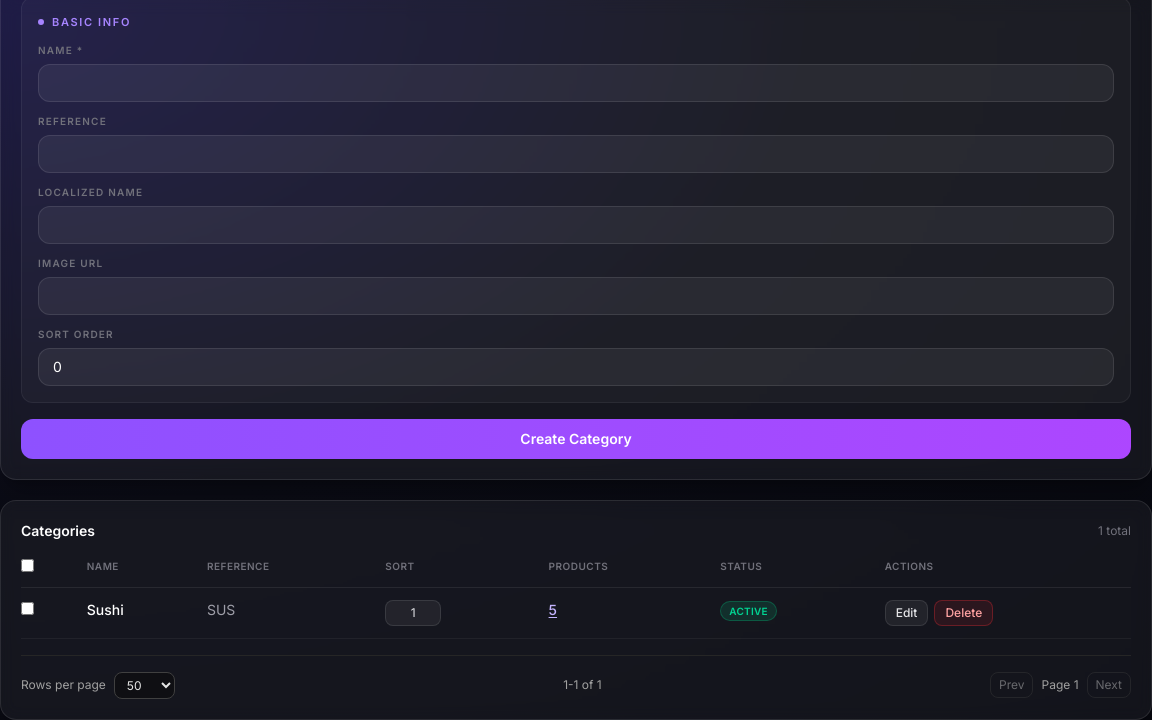
Test: MenuCategoriesPage — edit form › '+ New' button resets form to New Category mode
The image size is (1152, 720).
(page scrolled)
Check: the text "Sushi" is shown, box [87,600,124,618]
What coordinates should you click on to do the following:
click the button "Edit"
I would click on:
 (907, 612)
Its box is [885,600,928,626].
(page scrolled)
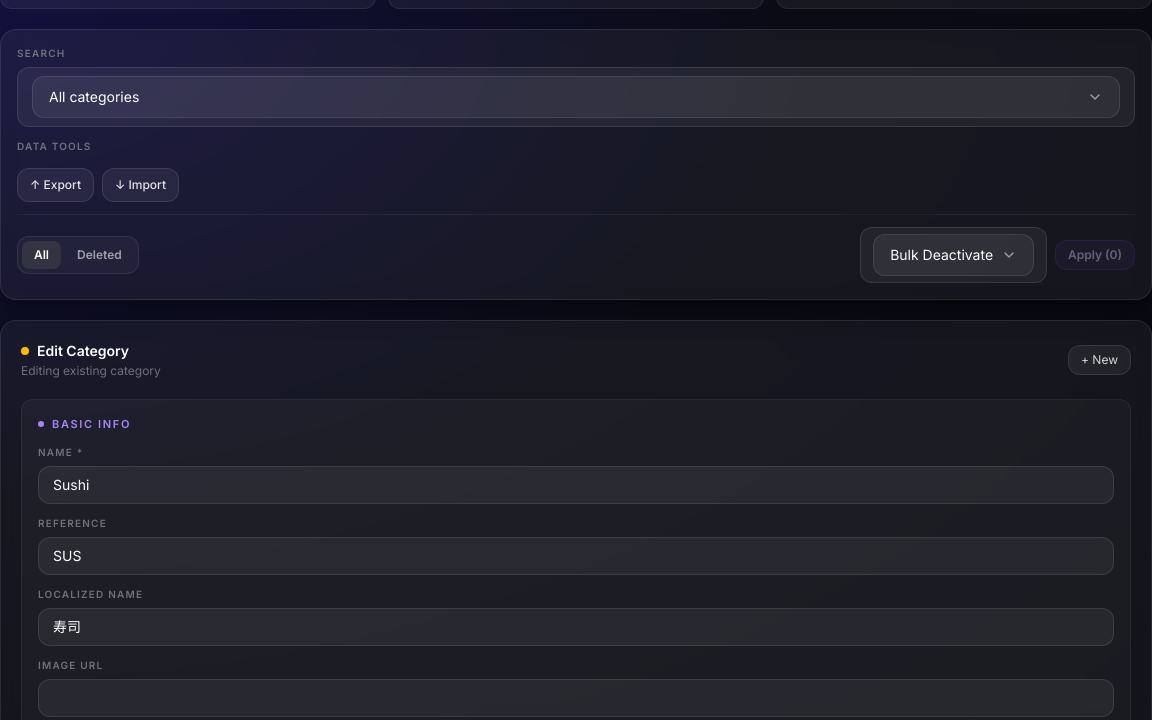
Check: the heading "Edit Category" is shown, box [37,341,129,361]
What coordinates should you click on to do the following:
click the button "+ New"
I would click on:
 (1100, 360)
Its box is [1068,345,1131,375].
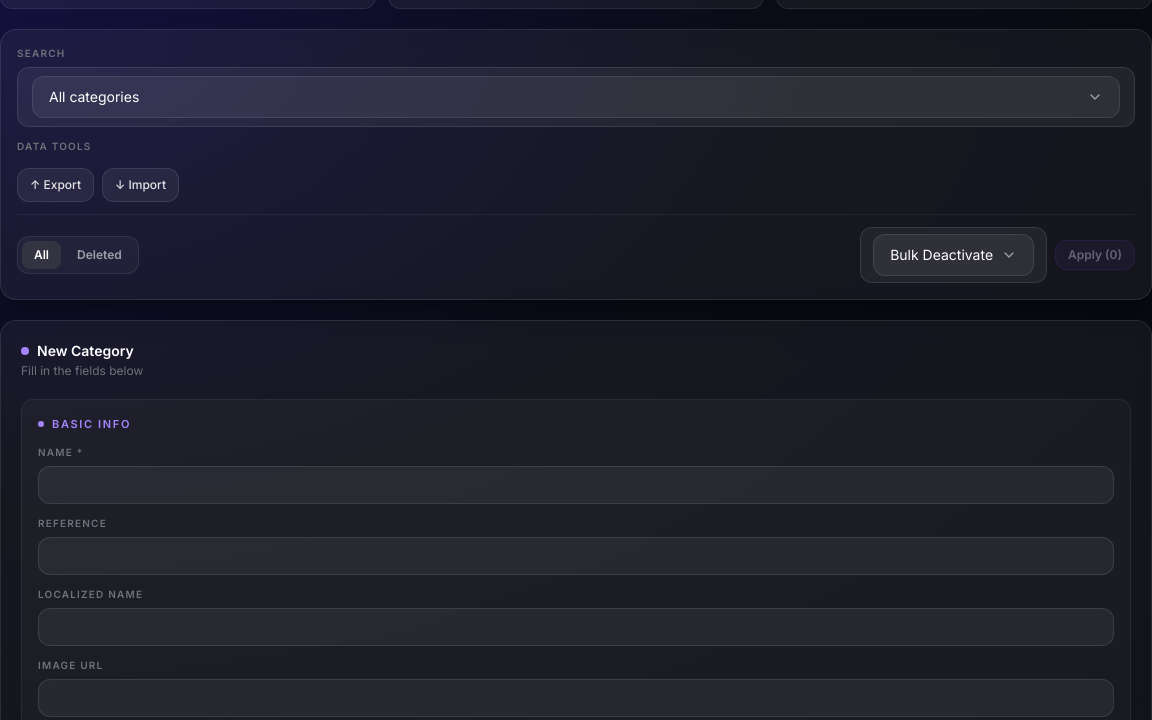
Check: the heading "New Category" is shown, box [37,341,134,361]
